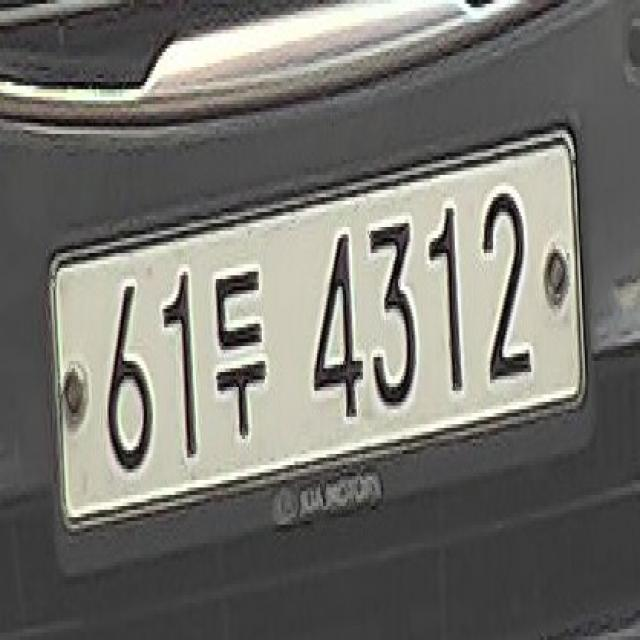1: (158, 258, 204, 473), (426, 194, 468, 408)
2: (479, 177, 535, 391)
3: (370, 208, 422, 416)
4: (309, 220, 364, 436)
6: (100, 272, 155, 484)
du: (210, 257, 274, 461)
license_plate: (37, 96, 609, 598)
